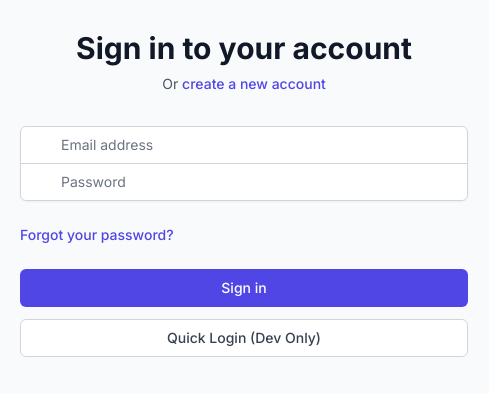
Test: Login Form › displays validation errors for empty form submission
The image size is (489, 394).
What coordinates should you click on to do the following:
click the submit button
I would click on:
 (244, 288)
Its box is [20,269,468,307].
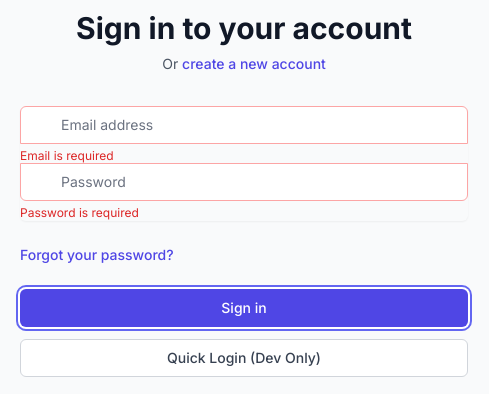
Now the text "Email is required" is shown, box [20,148,114,162]
Now the text "Password is required" is shown, box [20,204,139,220]
